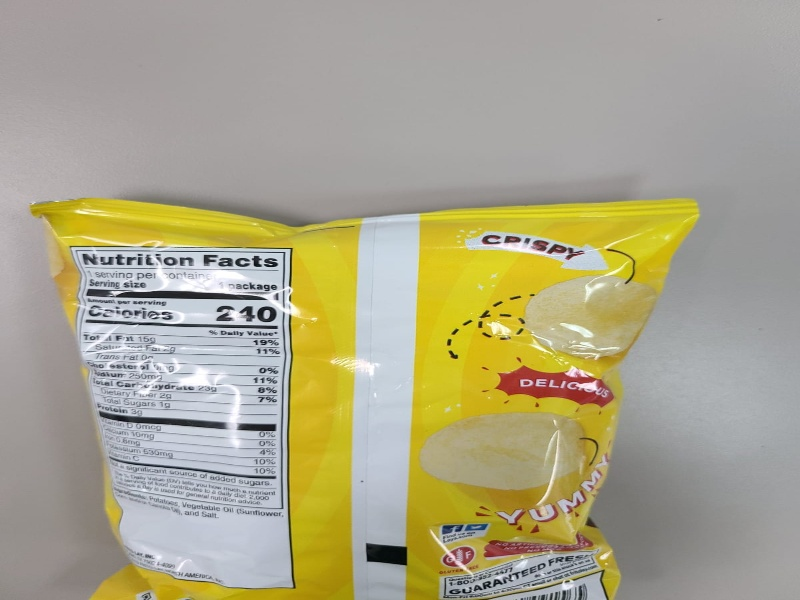lays: (31, 197, 705, 599)
